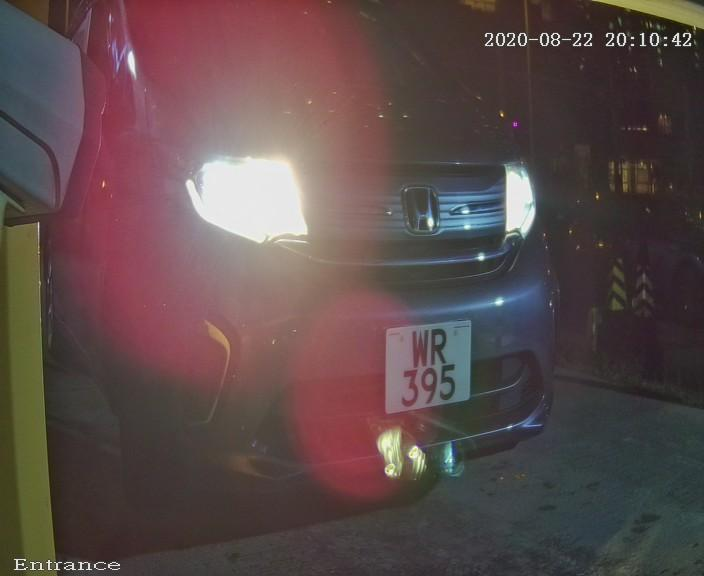Car: (35, 6, 617, 566)
License Plate: (371, 301, 481, 443)
